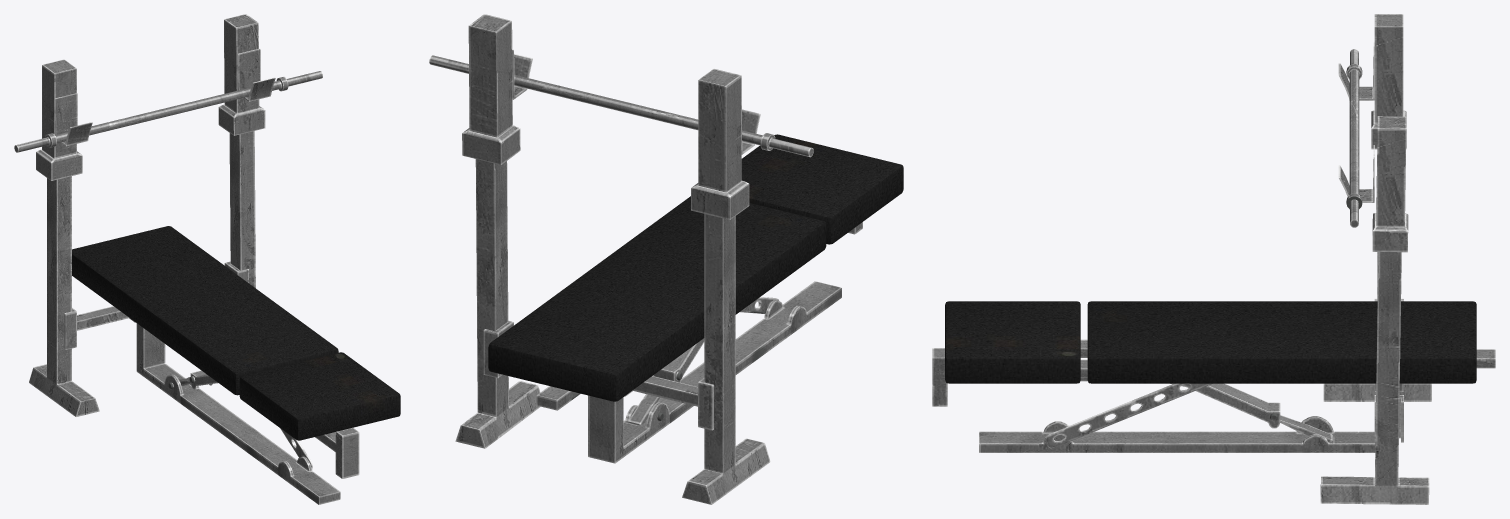
The model's file is benchpresss.glb.
The picture shows the model from 3 angles, left to right: view 1: azimuth 30°, elevation 25°; view 2: azimuth 150°, elevation 25°; view 3: azimuth 270°, elevation 25°; orthographic projection. The views are drawn at different scales.
Visible parts, largest first — view 1: Bench, Machine, WeightHolder, Barbell, Weight; view 2: Machine, Bench, Barbell, WeightHolder, Stance, Weight, machine2; view 3: Bench, Machine, Stance, Weight, Barbell, WeightHolder, machine2.
Boxes of the visible parts, bbox=[...] form: Bench: bbox=[72, 226, 400, 440]; Machine: bbox=[29, 14, 340, 504]; WeightHolder: bbox=[55, 48, 275, 146]; Barbell: bbox=[14, 71, 322, 152]; Weight: bbox=[190, 370, 359, 478]; Machine: bbox=[455, 14, 841, 504]; Bench: bbox=[488, 134, 903, 401]; Barbell: bbox=[429, 55, 813, 157]; WeightHolder: bbox=[512, 49, 760, 154]; Stance: bbox=[628, 297, 778, 425]; Weight: bbox=[653, 222, 862, 382]; machine2: bbox=[536, 386, 580, 410]; Bench: bbox=[945, 301, 1476, 383]; Machine: bbox=[979, 14, 1431, 504]; Stance: bbox=[1044, 383, 1332, 448]; Weight: bbox=[932, 348, 1280, 428]; Barbell: bbox=[1346, 49, 1362, 227]; WeightHolder: bbox=[1338, 42, 1374, 202]; machine2: bbox=[1080, 339, 1495, 377].
Bounding box in the file's own units: 1.43 × 1.47 × 2.
2 materials, 2 textured.
